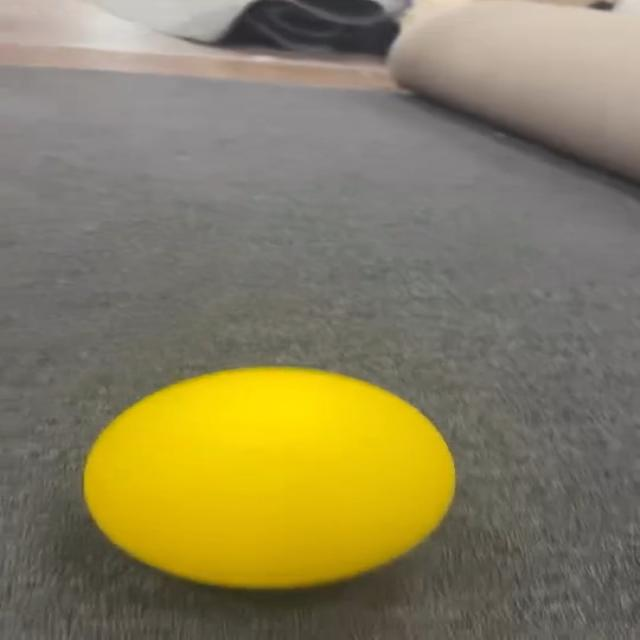Fuels: (83, 366, 456, 587)
